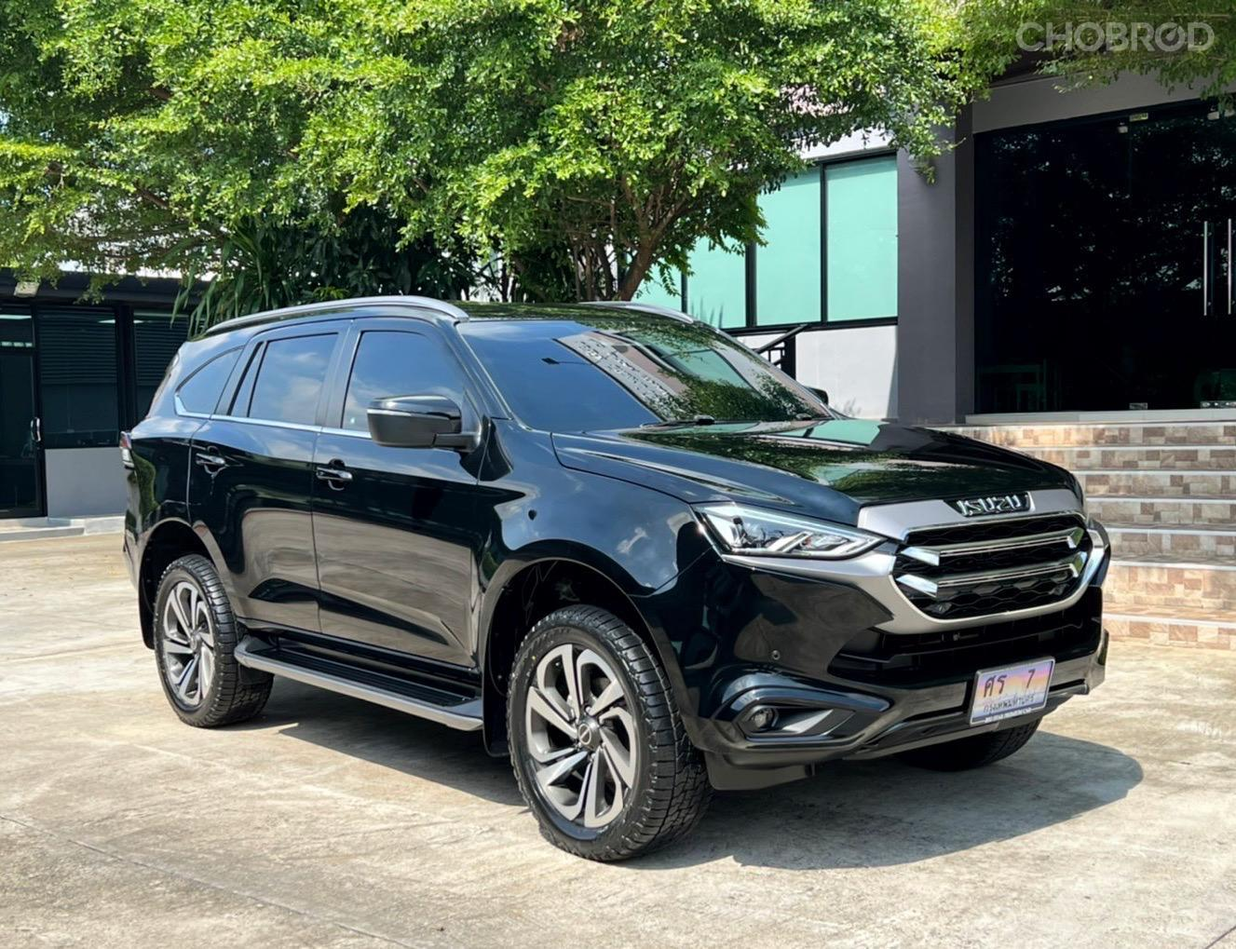license-plate: (960, 643, 1063, 745)
